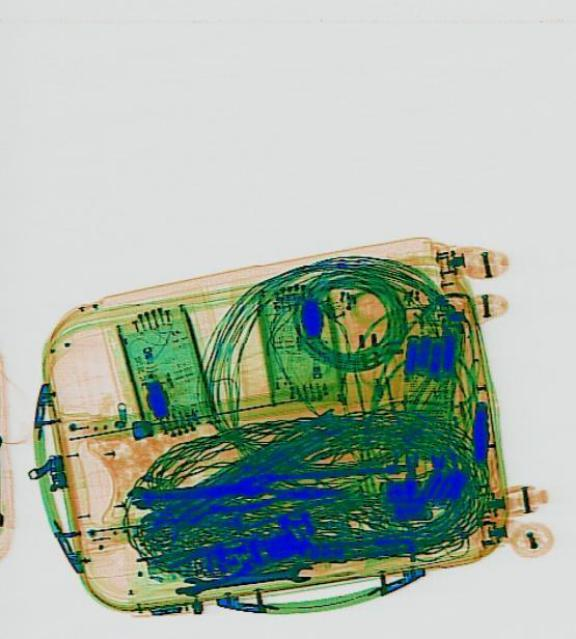Wrench: (172, 558, 312, 598), (125, 472, 264, 506)
